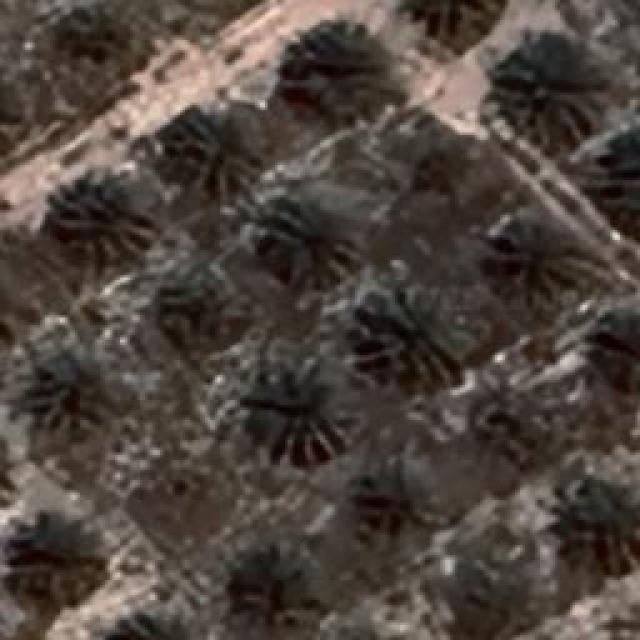PalmTree: (30, 72, 625, 182), (107, 22, 450, 72), (240, 352, 358, 462), (286, 22, 392, 126), (482, 60, 602, 145), (165, 102, 265, 200), (19, 340, 122, 435), (490, 215, 595, 303), (48, 167, 150, 255), (368, 287, 470, 375), (262, 198, 360, 288), (12, 510, 96, 610), (224, 541, 316, 619), (570, 480, 638, 575), (52, 0, 138, 73), (360, 454, 438, 528), (156, 278, 236, 346), (602, 306, 640, 402), (0, 245, 32, 348), (103, 608, 203, 640), (0, 63, 23, 154), (0, 59, 18, 153), (0, 412, 15, 514), (0, 416, 12, 514)
